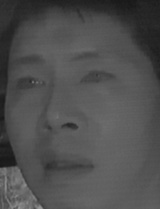eye: (79, 67, 116, 91), (13, 72, 46, 94)
mouth: (36, 148, 96, 181)
